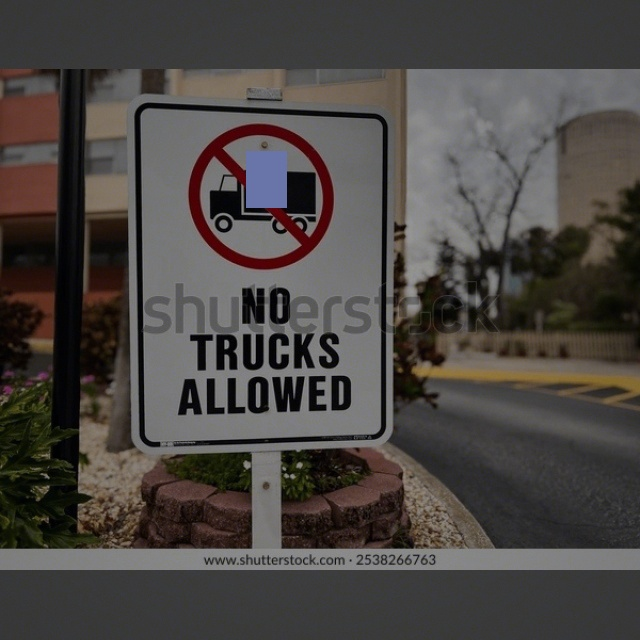Truck_Prohibited: (183, 115, 351, 279)
